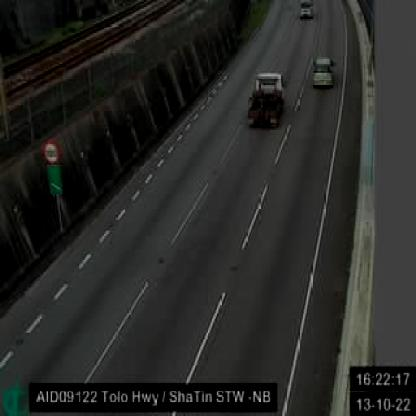Car: (313, 56, 335, 88), (300, 0, 314, 18)
Truck: (249, 68, 284, 128)
